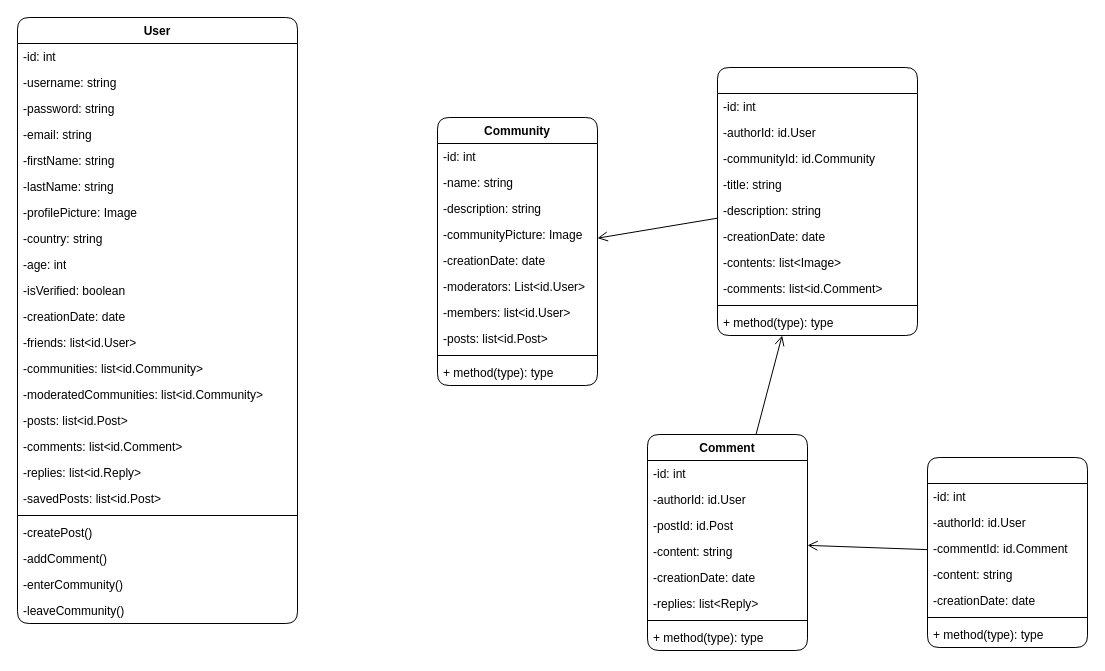
Some shapes in this 1105 by 671 pixel diagram are drawn without their labels. Here are the shapes that lost their labels. From the top down, the box of each, then its label:
(716, 66, 918, 336): Post
(926, 456, 1088, 648): Reply
